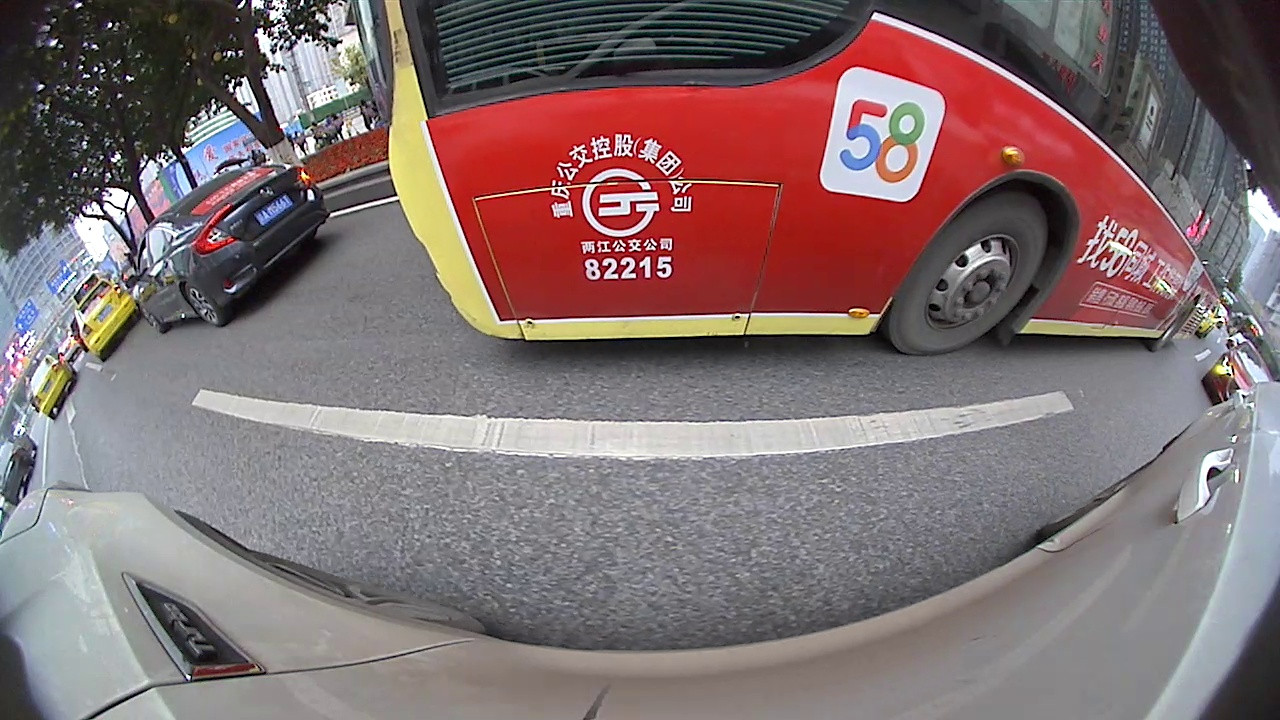bus: (401, 28, 655, 103)
car: (264, 59, 458, 183), (852, 114, 1006, 203), (695, 74, 837, 134), (1, 306, 78, 406)
front: (273, 154, 301, 182), (902, 151, 928, 179), (732, 100, 751, 124)
rear: (363, 122, 401, 156)
rider: (632, 63, 685, 107)
